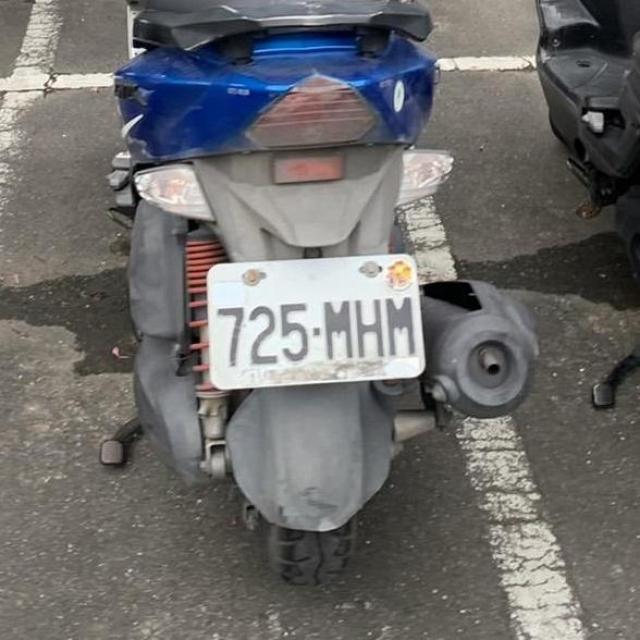W: (196, 241, 430, 397)
